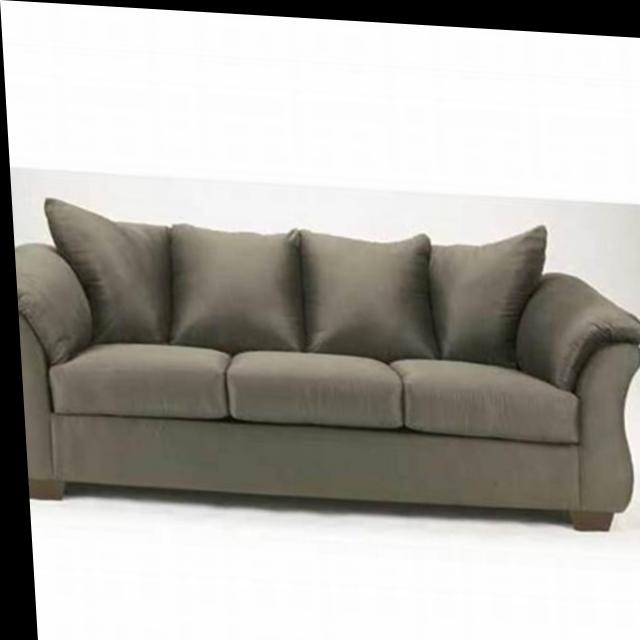Sofa: (9, 194, 640, 531)
